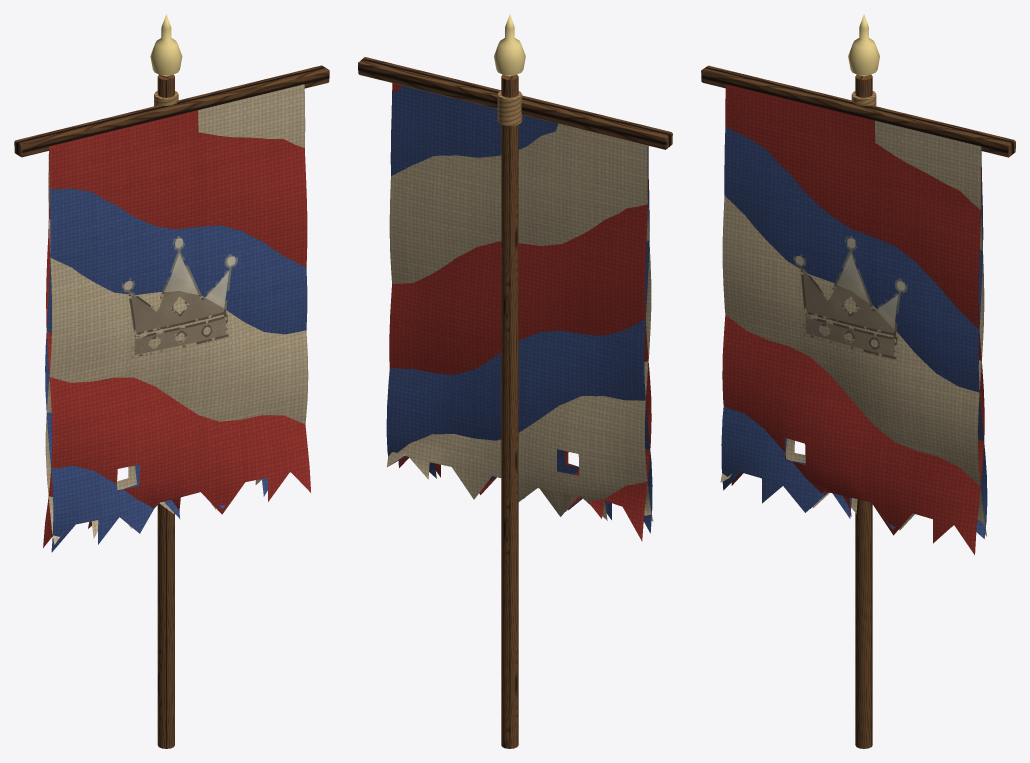
The model's file is Banner.glb.
3 renders of one model, left to right at view 1: azimuth 30°, elevation 25°; view 2: azimuth 150°, elevation 25°; view 3: azimuth 330°, elevation 25°, orthographic.
Visible parts, largest first — view 1: Cloth_Red, Cloth_White, Cloth_Blue, Banner; view 2: Cloth_White, Cloth_Red, Cloth_Blue, Banner; view 3: Cloth_Red, Cloth_White, Cloth_Blue, Banner.
Boxes of the visible parts, x1=… form: Cloth_Red: x1=43, y1=110, x2=310, y2=547; Cloth_White: x1=45, y1=84, x2=308, y2=544; Cloth_Blue: x1=45, y1=154, x2=307, y2=552; Banner: x1=14, y1=14, x2=329, y2=748; Cloth_White: x1=387, y1=123, x2=653, y2=521; Cloth_Red: x1=389, y1=83, x2=651, y2=541; Cloth_Blue: x1=386, y1=85, x2=652, y2=533; Banner: x1=358, y1=14, x2=672, y2=748; Cloth_Red: x1=722, y1=84, x2=984, y2=554; Cloth_White: x1=720, y1=120, x2=986, y2=536; Cloth_Blue: x1=721, y1=126, x2=987, y2=538; Banner: x1=701, y1=14, x2=1015, y2=748.
Bounding box in the file's own units: 1.45 × 3.28 × 0.2067.
9 materials, 8 textured.
